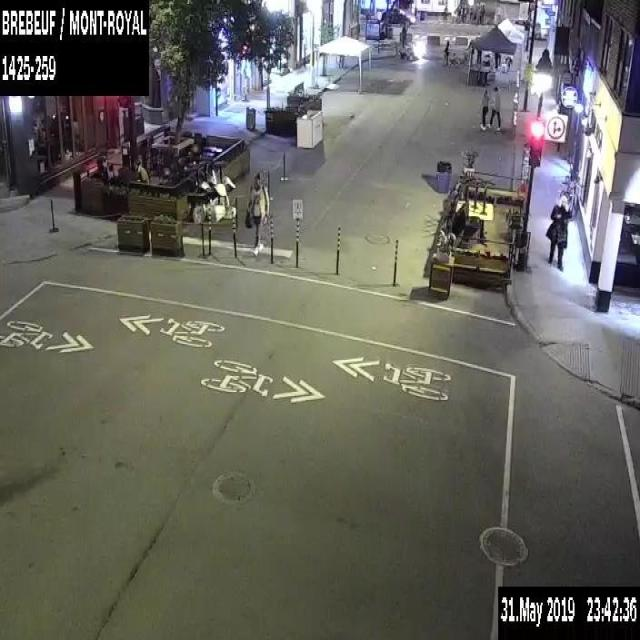pedestrian: (244, 173, 268, 256), (544, 193, 568, 267), (480, 83, 490, 129), (490, 84, 500, 130), (132, 160, 149, 184), (442, 40, 450, 72)
